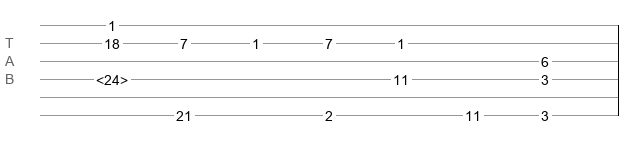1: (108, 18, 116, 28), (252, 36, 260, 46), (397, 36, 405, 46)
11: (393, 72, 409, 82), (465, 108, 481, 118)
18: (104, 36, 120, 46)
2: (325, 108, 333, 118)
21: (176, 108, 192, 118)
3: (541, 108, 549, 118), (541, 72, 549, 82)
6: (541, 54, 549, 64)
7: (180, 36, 188, 46), (325, 36, 333, 46)
harmonic: (96, 72, 128, 82)
